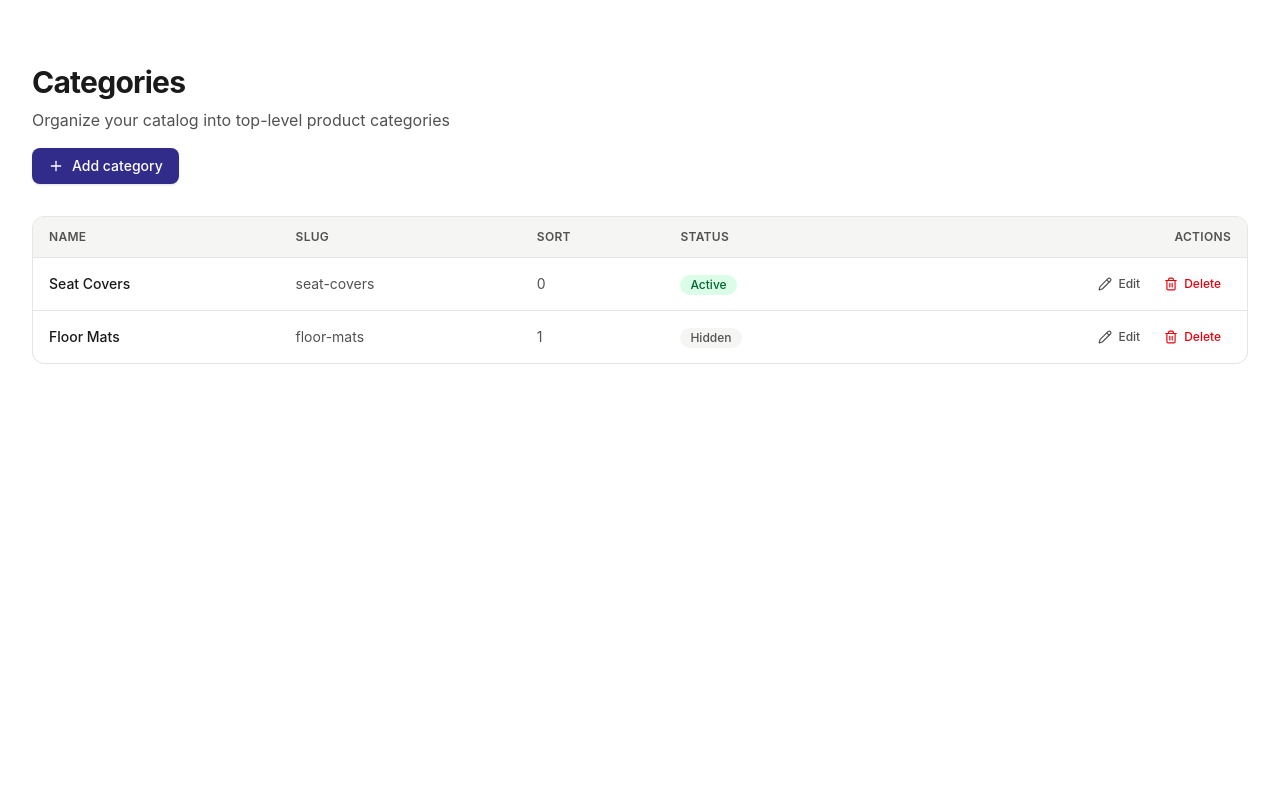
Test case: CategoriesAdminPage › creates a category through the inline form
Expected: the text "Seat Covers" is shown, [33,258,280,310]
Click the button "Add category" at (105, 166), box [32,148,179,184]
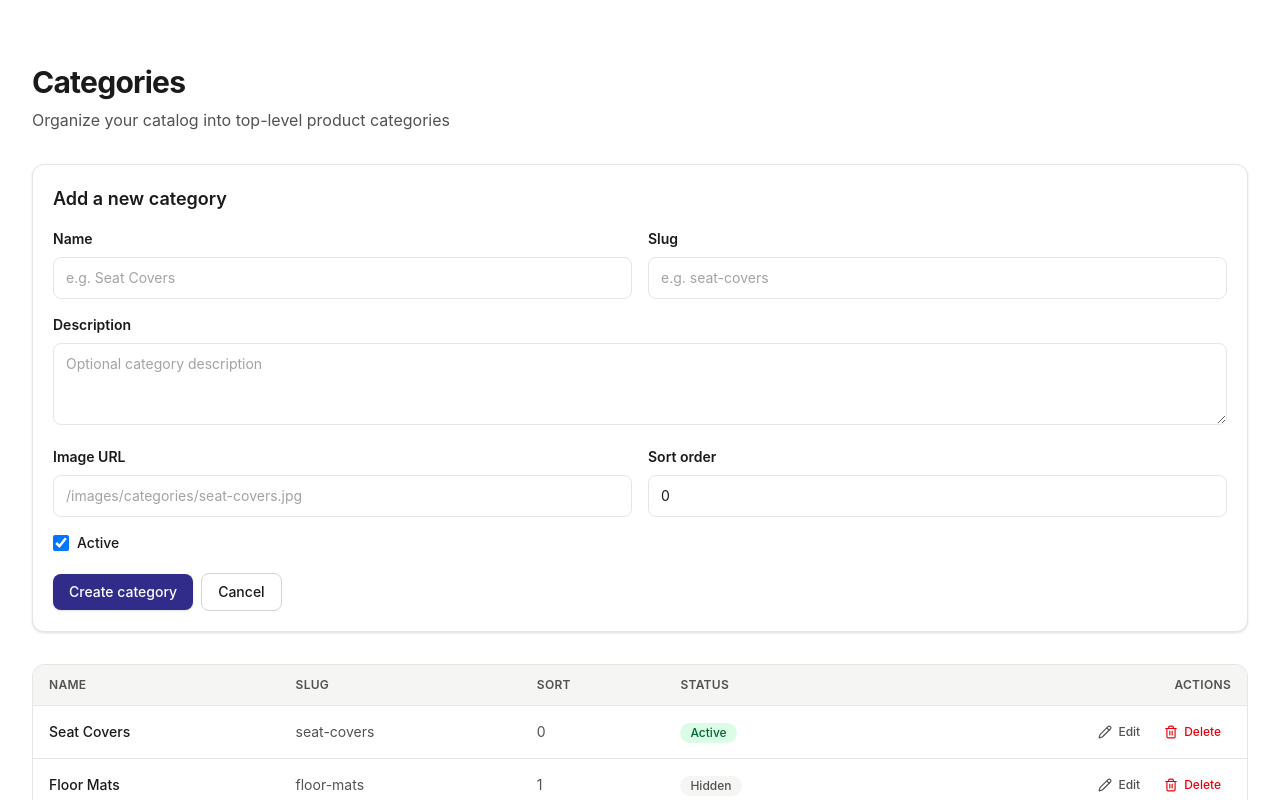
Type "Ambient Lighting" into the field labelled "Name" at (342, 278), box [53,257,632,299]
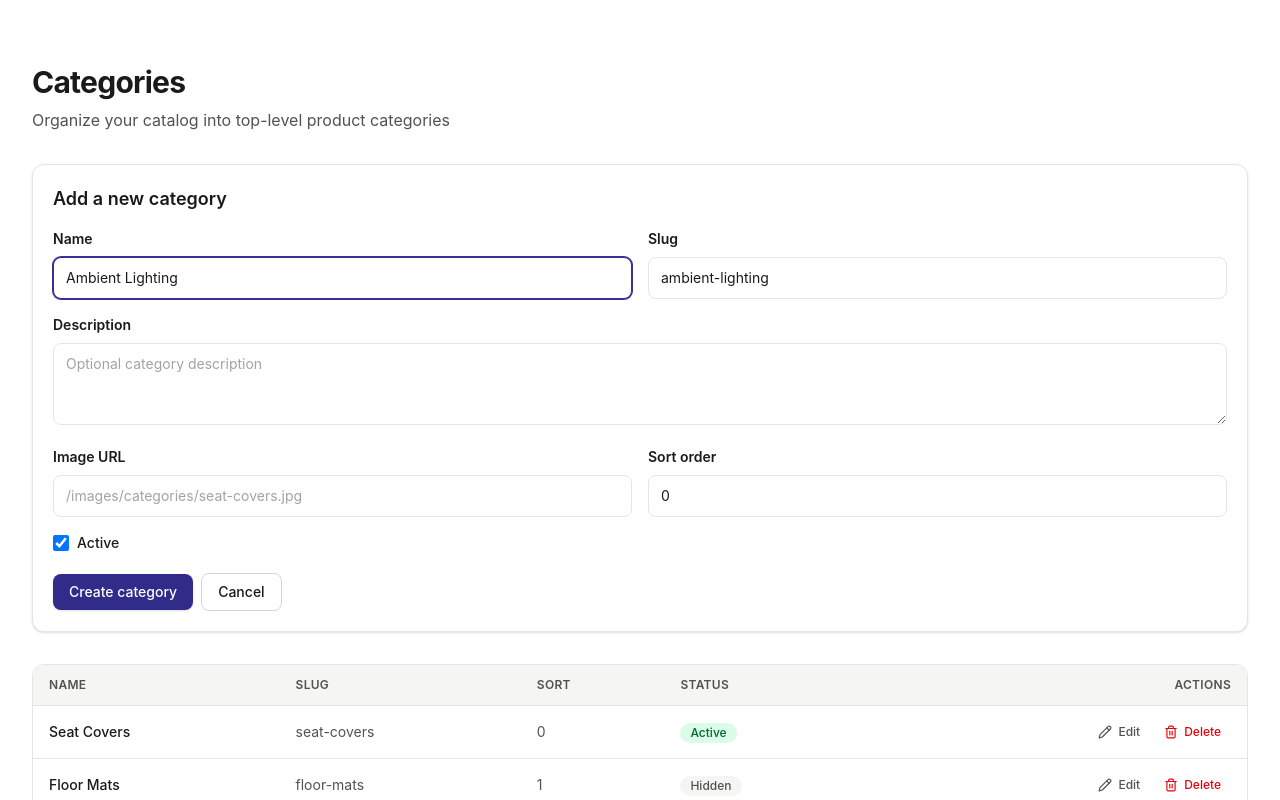
Click the button "Create category" at (123, 592), box [53,574,193,610]
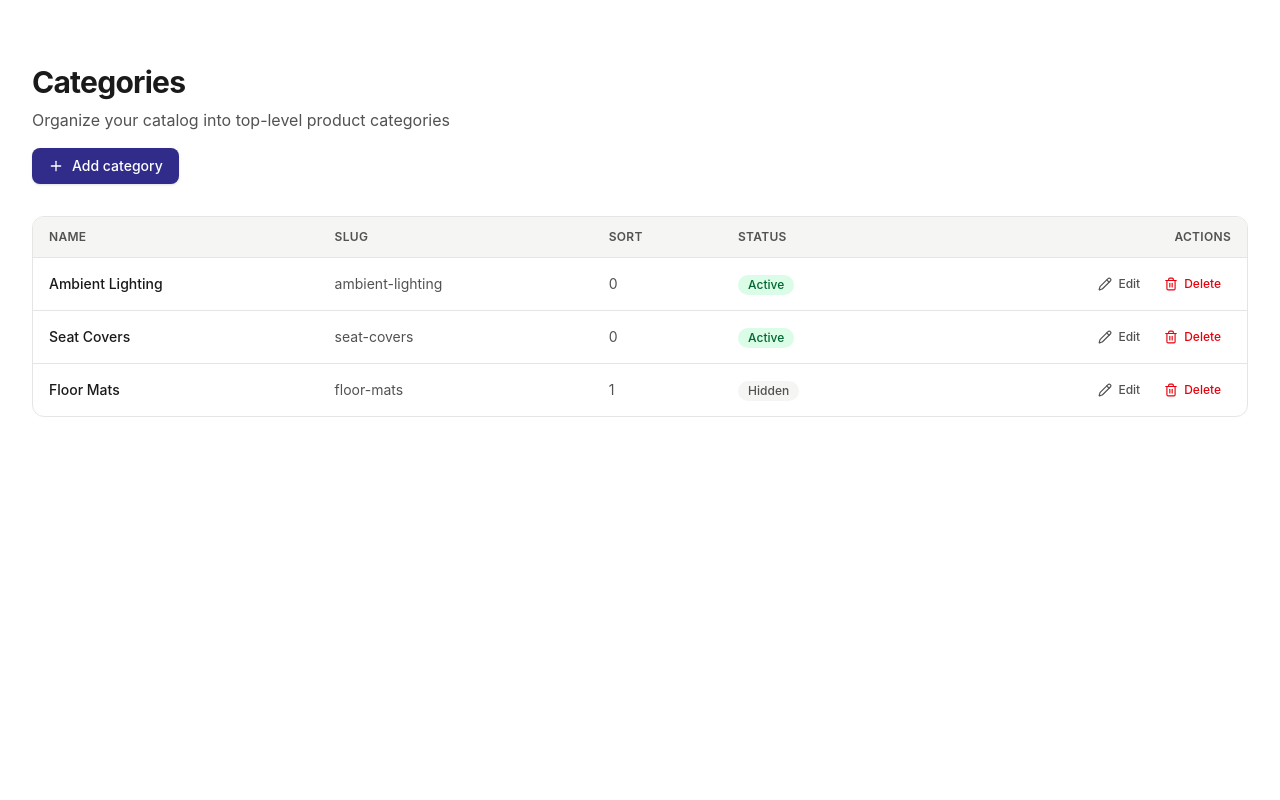
Now the row "Ambient Lighting ambient-lighting 0 Active Edit Delete" is shown, box [33,258,1247,310]
